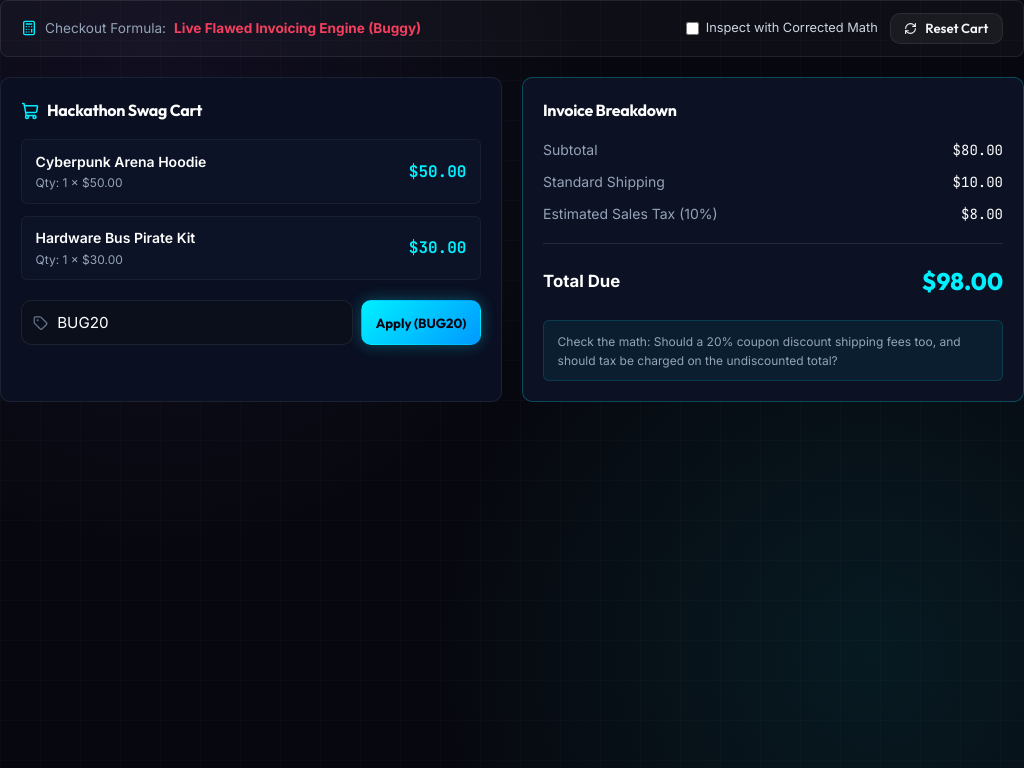
Test: BUG ARENA Frontend Integration & Challenge Tests › Challenge 6: Cart Calculator simulation › calculates coupon discount against subtotal plus shipping
This screenshot has width=1024, height=768.
Click the button "Apply (BUG20)" at (421, 323), box [361,300,481,345]
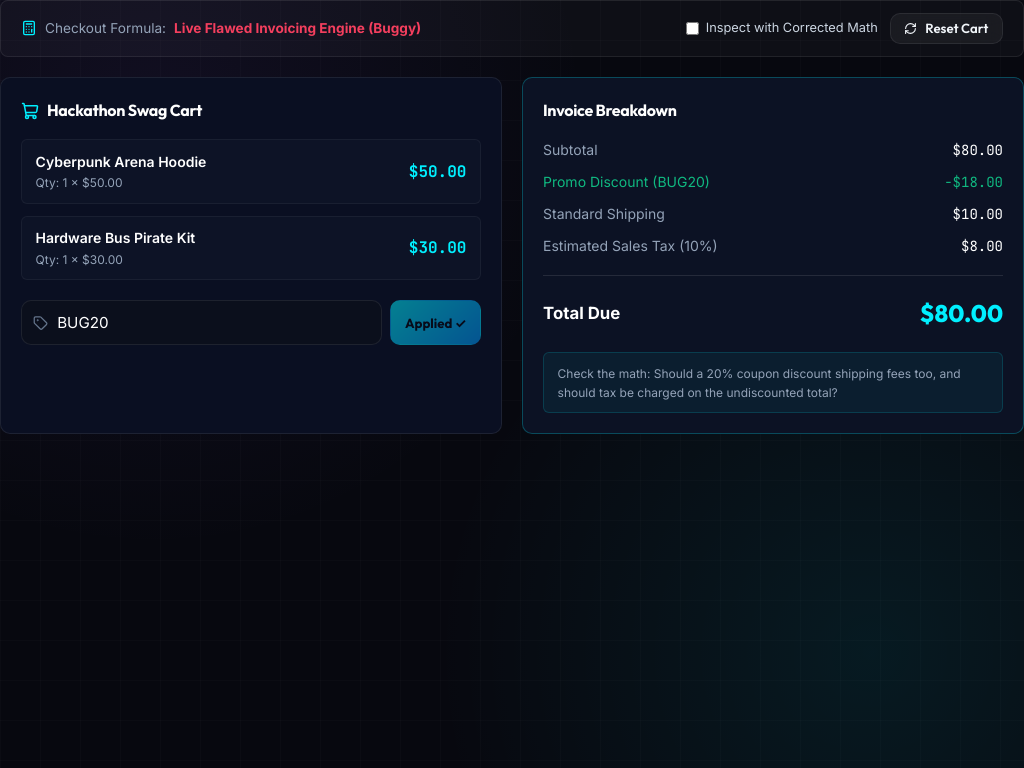
Check: the text "Promo Discount (BUG20)" is shown, box [543,171,710,194]
